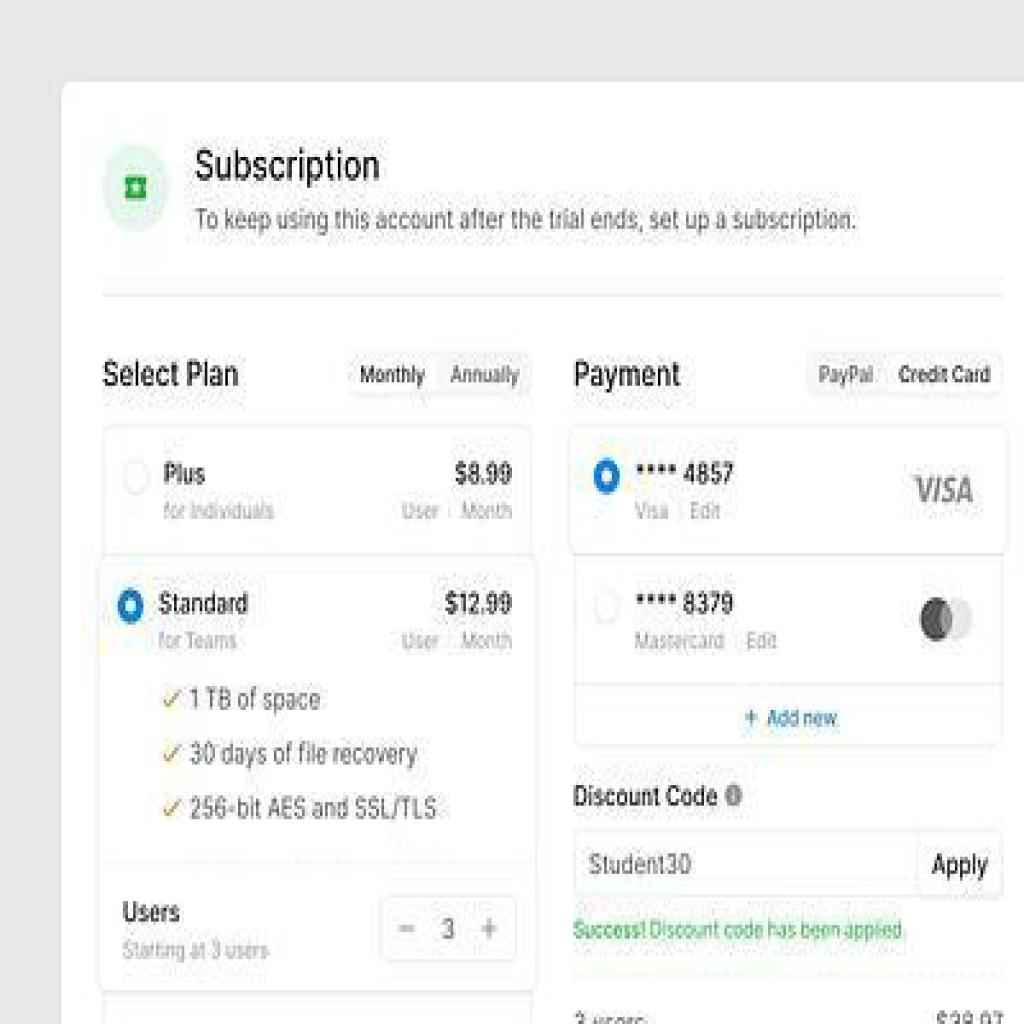button: (574, 682, 1004, 748), (916, 833, 1001, 898)
input: (576, 833, 916, 894), (379, 894, 517, 959)
label: (568, 775, 714, 809), (632, 447, 735, 492), (632, 584, 740, 618), (159, 587, 251, 621), (115, 894, 187, 932), (162, 457, 212, 495)
radio: (591, 454, 625, 498), (120, 454, 151, 498), (115, 584, 146, 624), (591, 584, 622, 624)
